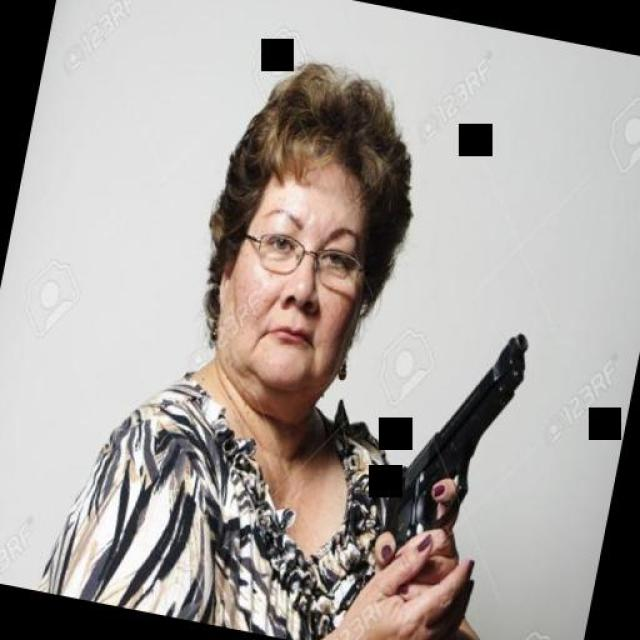gun: (368, 305, 536, 596)
